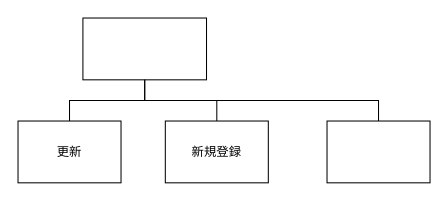
Some shapes in this 448 by 201 pixel diagram are drawn without their labels. The shapes that lost their labels are listed below. From the top down, each one's centre as x and y in pixels, then its label:
At point 144,48: "顧客管理".
At point 378,151: "削除".
